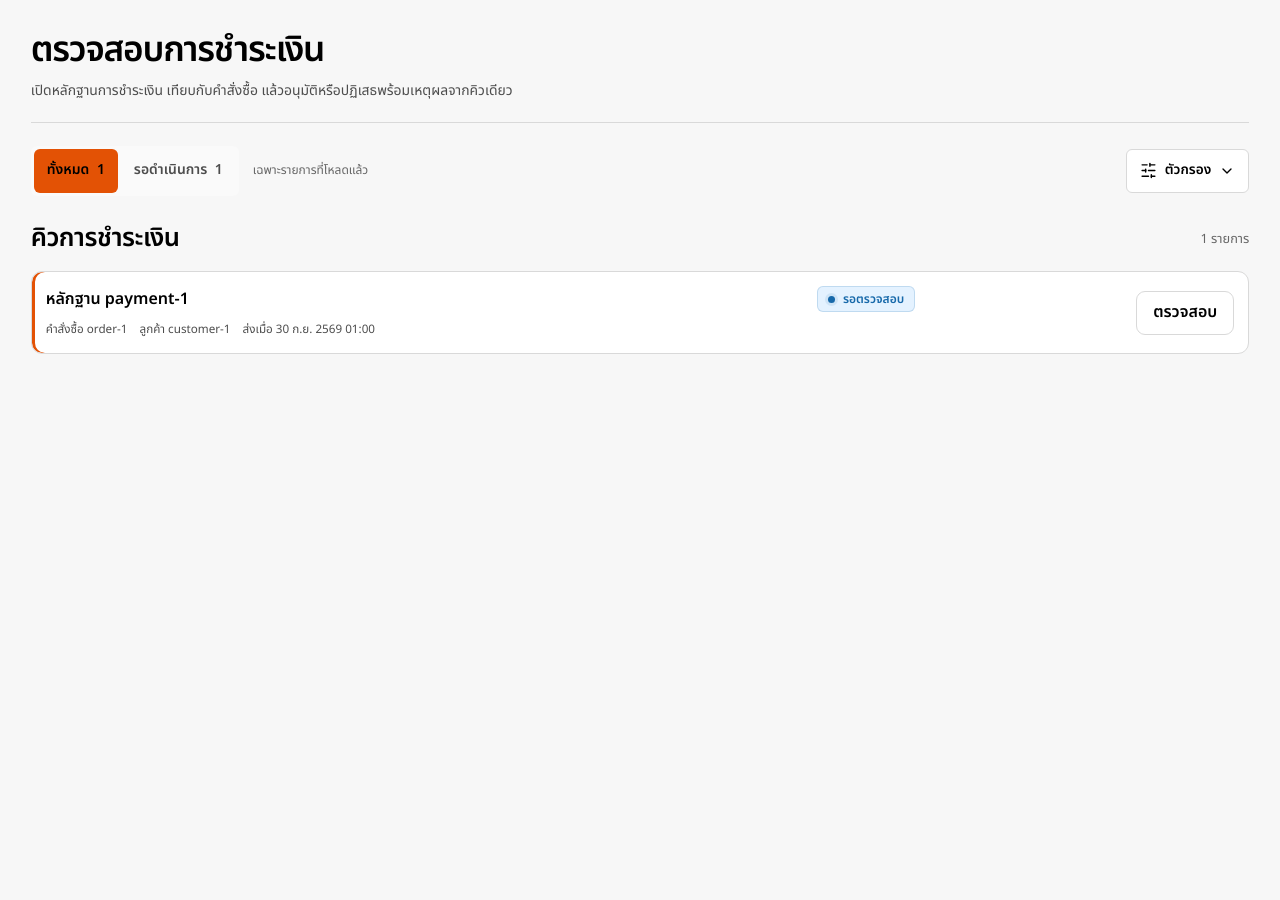
Scenario: OrganizationPaymentsView › announces applied payment queue filters with useful context
Expected: the heading "หลักฐาน payment-1" is shown, [46, 287, 189, 311]
Step 1. Click the button "ตัวกรอง" → (1188, 170), box [1126, 148, 1249, 192]
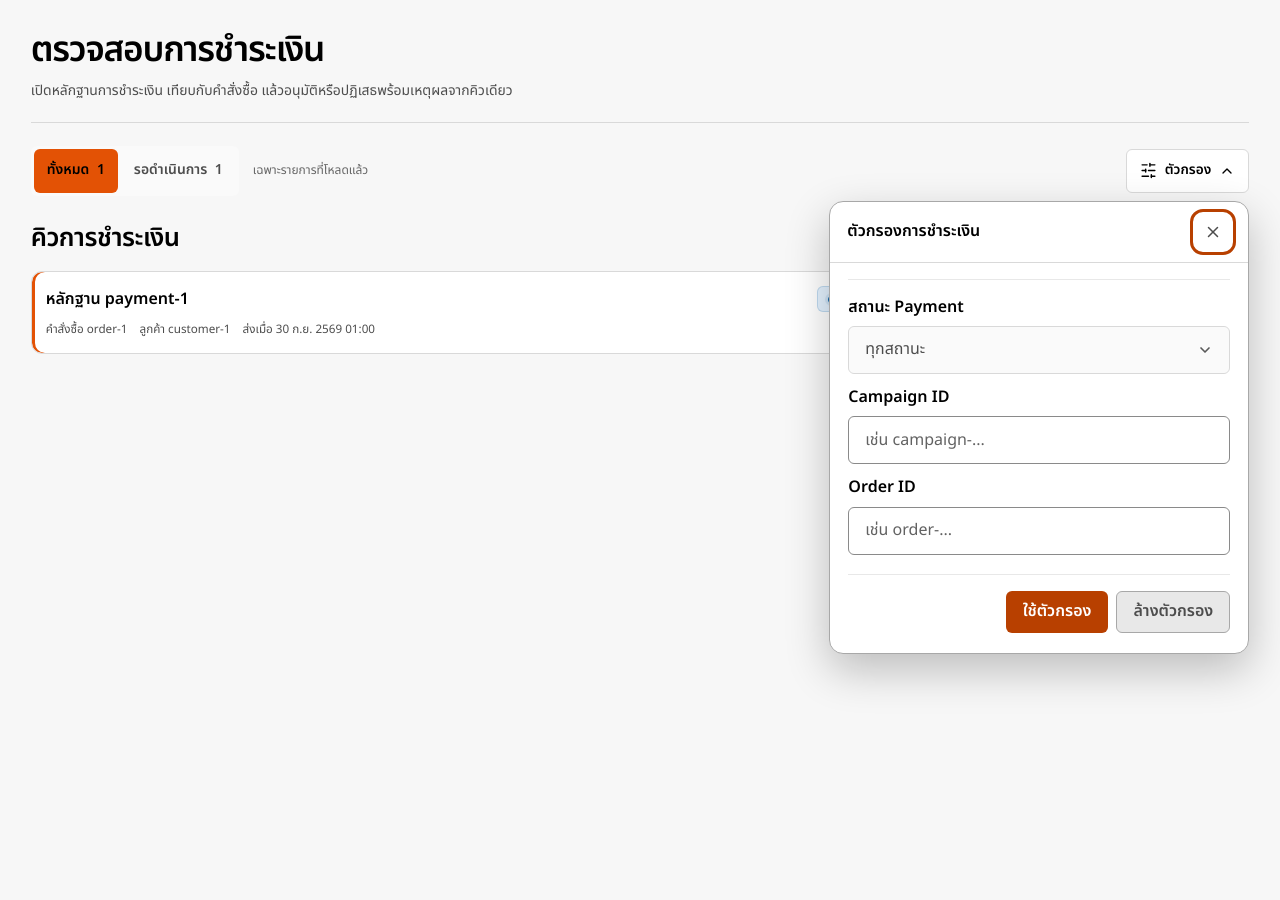
Step 2. Select "รอตรวจสอบ" in the dropdown labelled "สถานะ Payment" → (1039, 350), box [848, 326, 1230, 374]
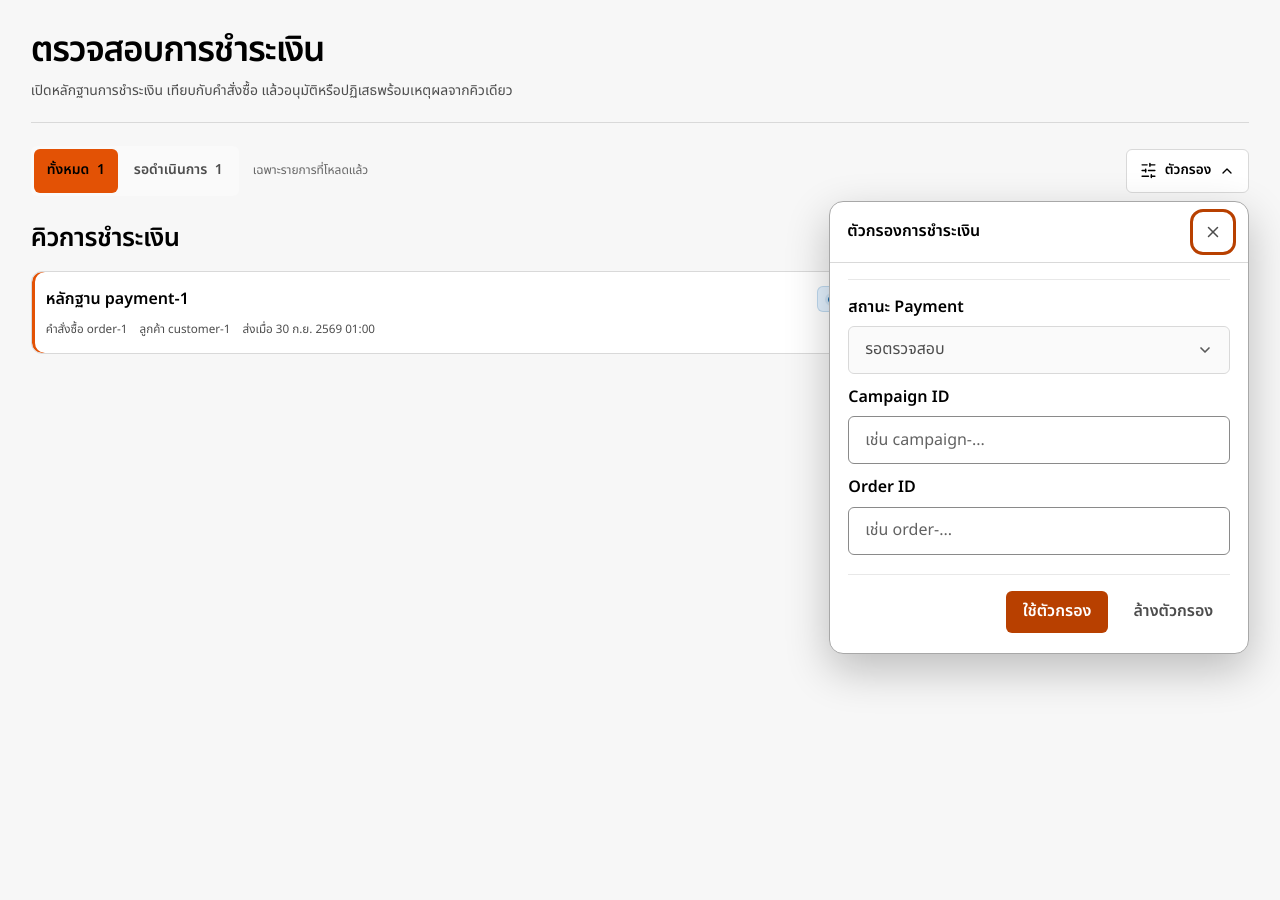
Step 3. Click the button "ใช้ตัวกรอง" → (1057, 612), box [1006, 591, 1108, 633]
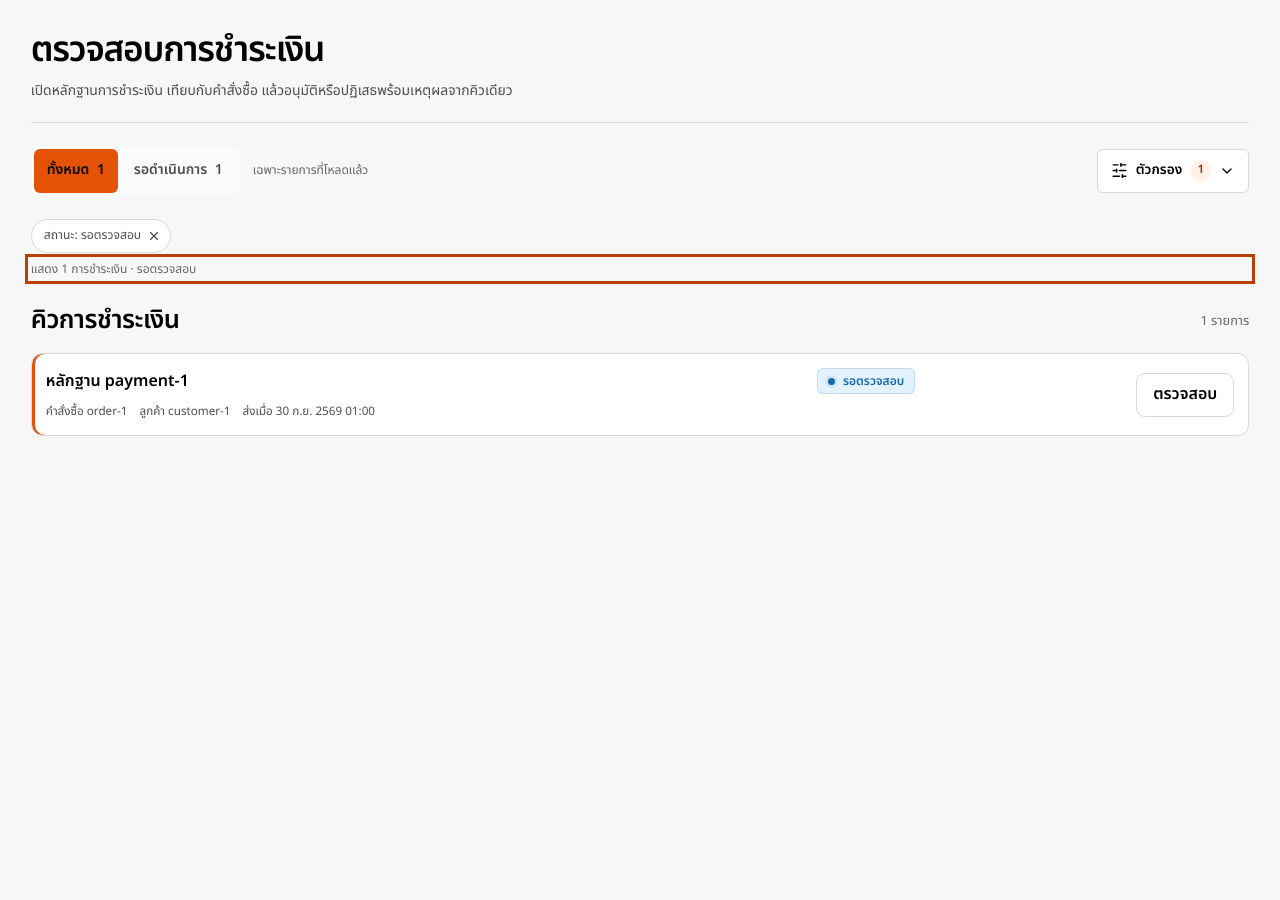
Now the message reads "แสดง 1 การชำระเงิน · รอตรวจสอบ", box [31, 260, 196, 278]
